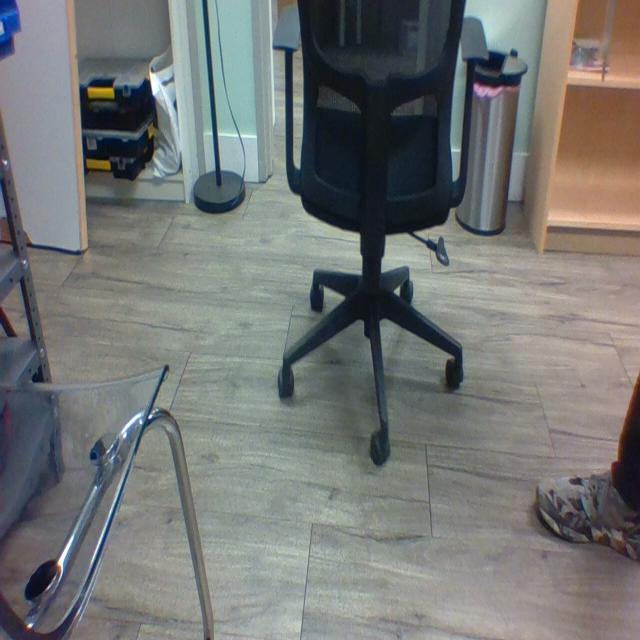chair: (268, 0, 480, 458)
